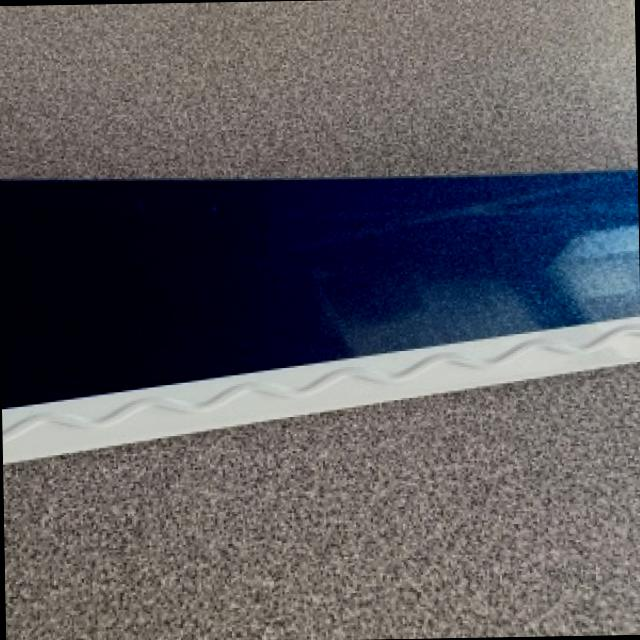healthy: (0, 167, 639, 458)
